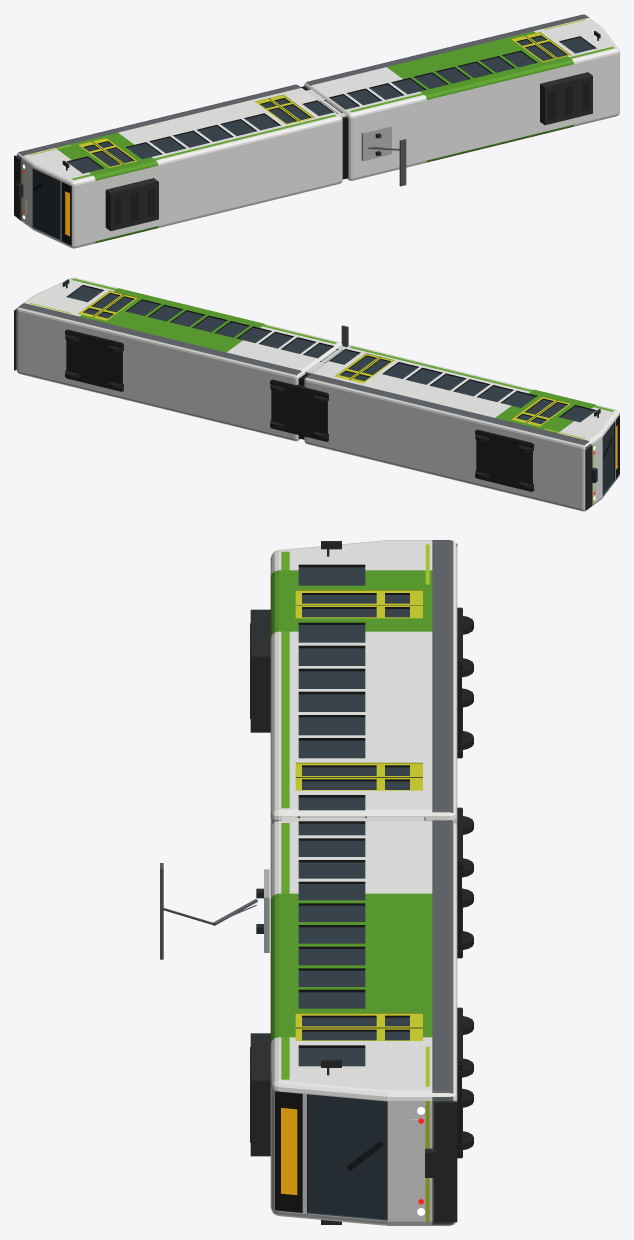
The picture shows the model from 3 angles, top to bottom: view 1: azimuth 30°, elevation 25°; view 2: azimuth 150°, elevation 25°; view 3: azimuth 270°, elevation 25°; orthographic projection. The views are drawn at different scales.
Visible parts, largest first — view 1: B2_body_s0, B2_body_s1, B2_roof_ac_030, B2_roof_ac_026, B2_pan_base_034, B2_bellows_001, B2_pan_head_040, B2_bumper_006; view 2: B2_body_s0, B2_body_s1, B2_bogie_frame_056, B2_bogie_frame_041, B2_bogie_frame_071, B2_bumper_006; view 3: B2_body_s1, B2_body_s0, B2_bumper_018, B2_roof_ac_030, B2_roof_ac_026.
Part boxes in pixels (x1,y1,x2,y2): B2_body_s0: (16, 84, 342, 248); B2_body_s1: (304, 14, 619, 180); B2_roof_ac_030: (105, 178, 158, 231); B2_roof_ac_026: (540, 72, 592, 125); B2_pan_base_034: (361, 125, 391, 161); B2_bellows_001: (301, 86, 348, 179); B2_pan_head_040: (399, 139, 406, 186); B2_bumper_006: (14, 155, 20, 219); B2_body_s0: (304, 345, 619, 511); B2_body_s1: (16, 277, 342, 441); B2_bogie_frame_056: (271, 379, 327, 441); B2_bogie_frame_041: (476, 429, 532, 491); B2_bogie_frame_071: (66, 329, 122, 391); B2_bumper_006: (585, 445, 592, 509); B2_body_s1: (270, 820, 457, 1225); B2_body_s0: (270, 540, 457, 827); B2_bumper_018: (434, 1101, 457, 1222); B2_roof_ac_030: (250, 609, 270, 732); B2_roof_ac_026: (250, 1033, 270, 1156).
Bounding box in the file's own units: 23.99 × 3.25 × 5.64.
